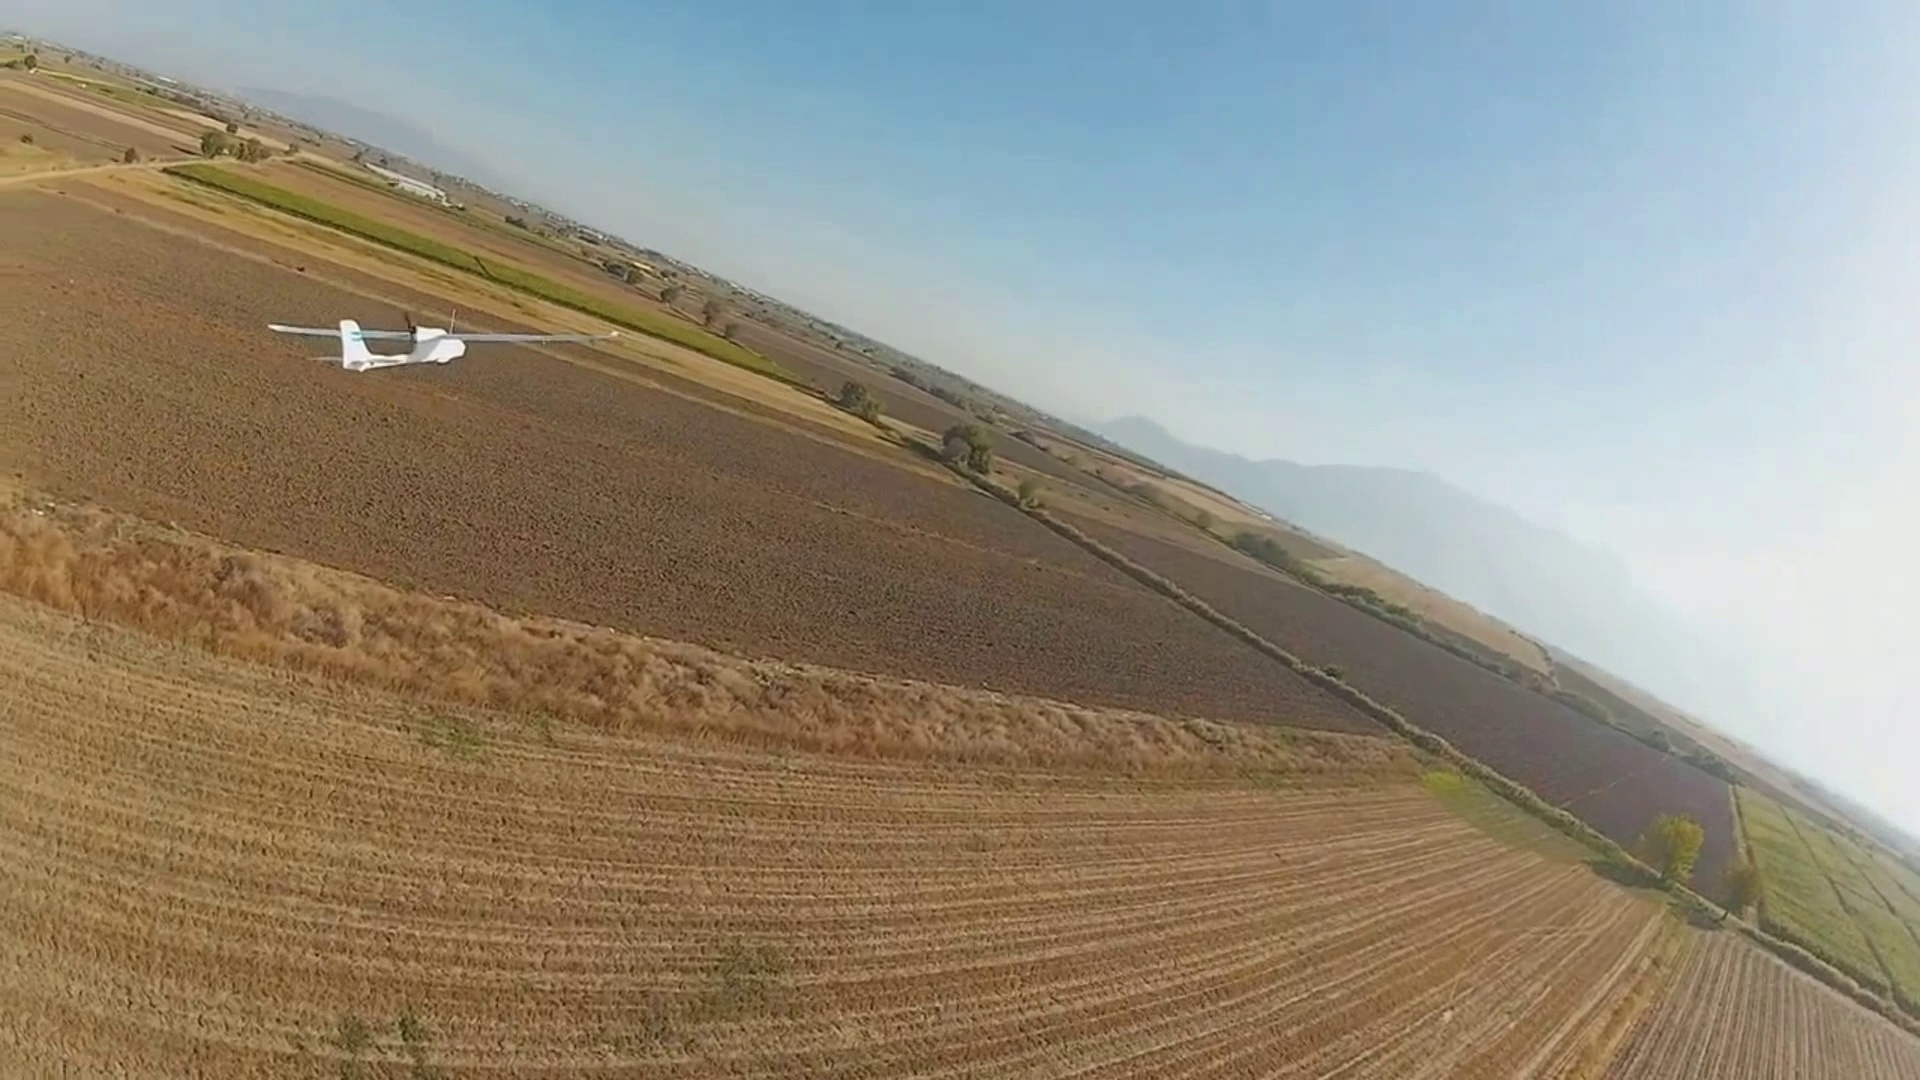airplane: (267, 317, 467, 372)
